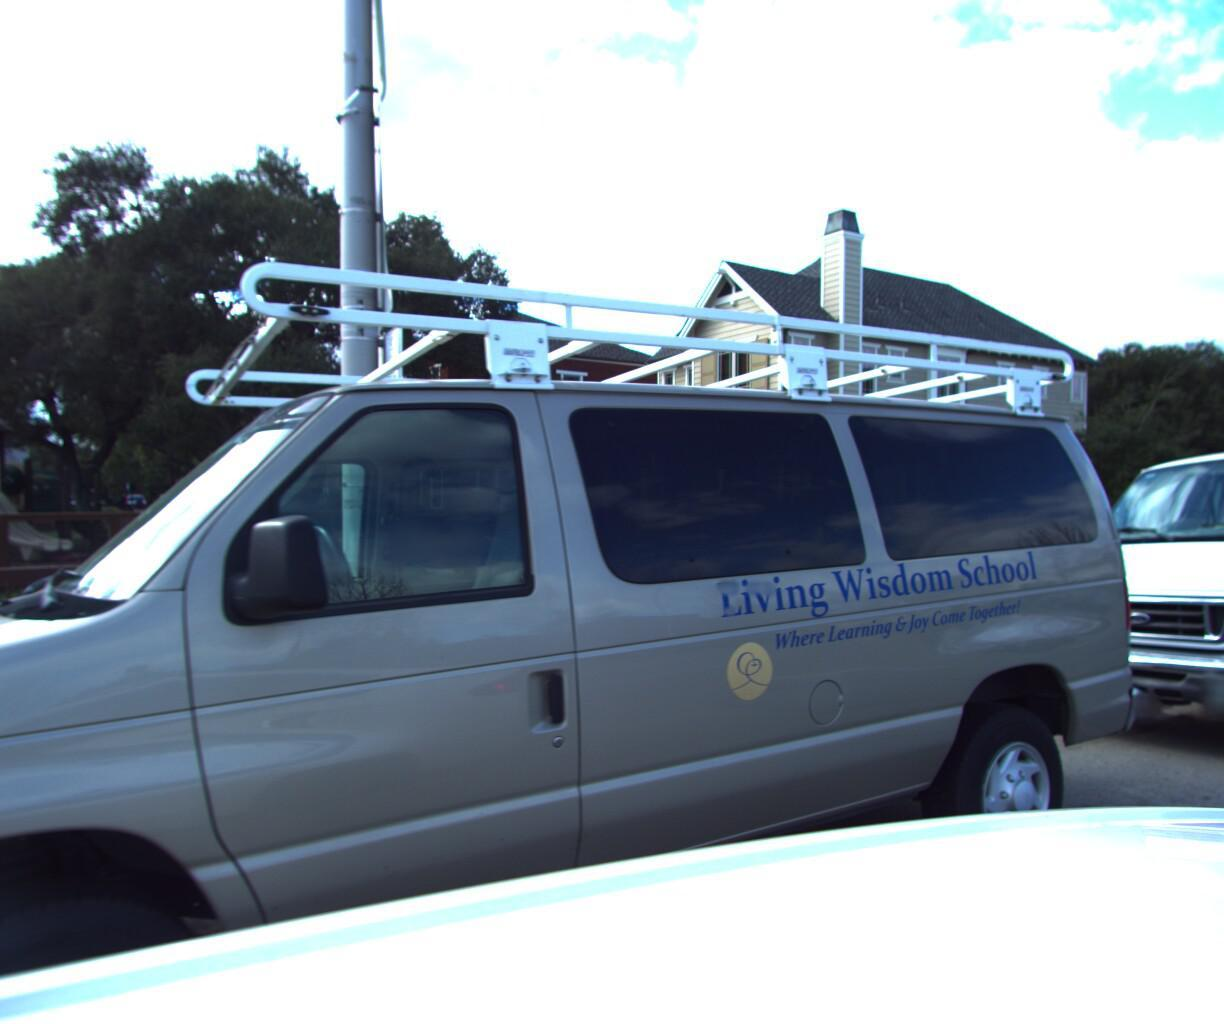car: (0, 191, 1175, 1024), (1018, 402, 1224, 805)
